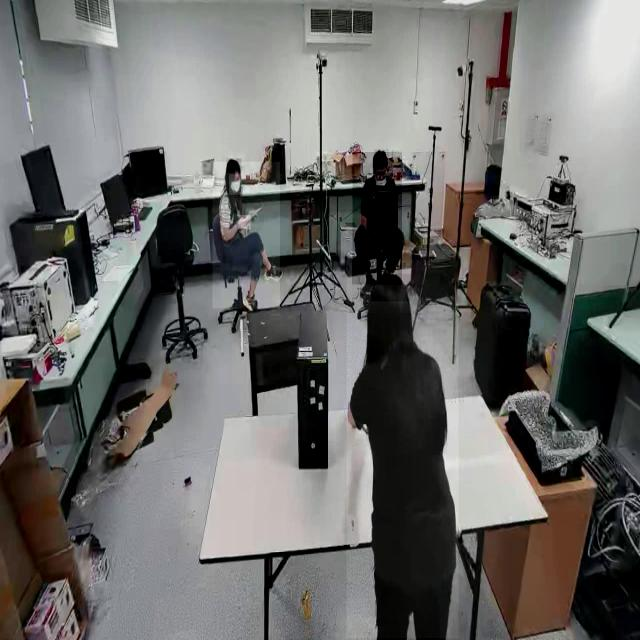face_mask: (229, 174, 241, 195)
hand_noglove: (238, 215, 250, 230)
head_nohelmet: (371, 274, 412, 302), (226, 158, 242, 174), (374, 150, 388, 166)
person: (346, 261, 458, 639), (212, 162, 280, 309), (352, 152, 402, 284)
shoes: (262, 258, 285, 285), (245, 287, 259, 317)
